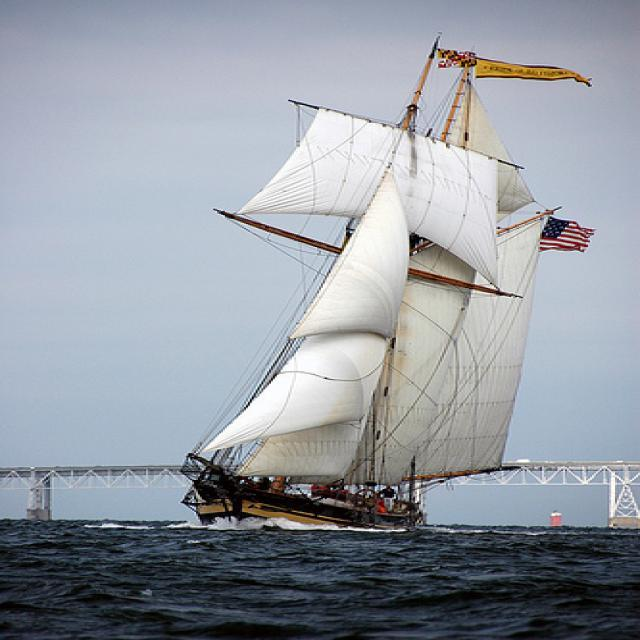Ship: (185, 37, 577, 545)
